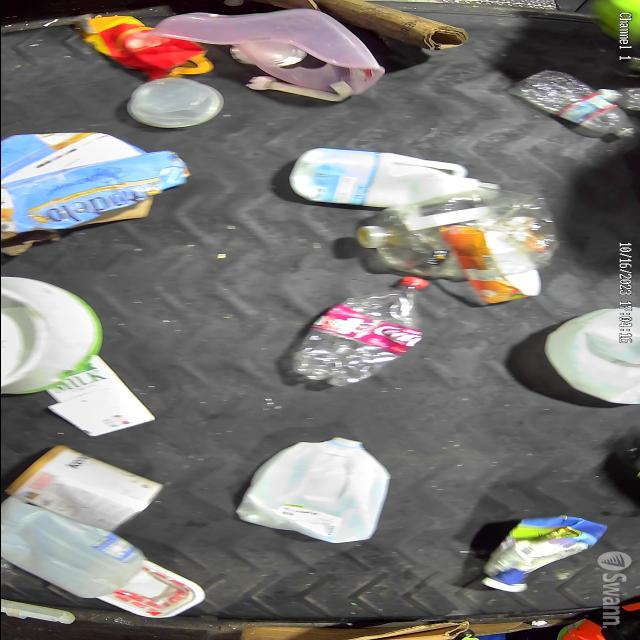milk_jug: (234, 436, 402, 544), (0, 504, 166, 604), (278, 146, 486, 210), (530, 306, 640, 406)
plastic_bottle: (358, 178, 552, 284), (294, 275, 439, 389), (509, 70, 634, 136)
